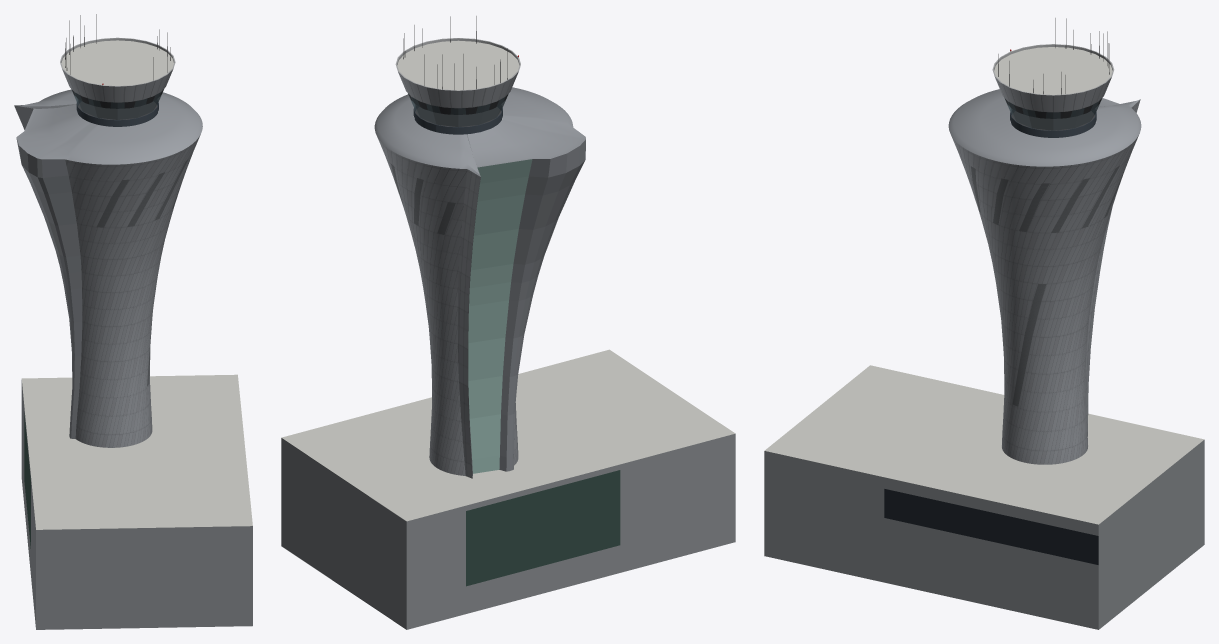
File: tower_lod2.glb
3 renders of one model, left to right at view 1: azimuth 30°, elevation 25°; view 2: azimuth 150°, elevation 25°; view 3: azimuth 270°, elevation 25°, orthographic. The views are drawn at different scales.
Visible parts, largest first — view 1: L2_ibf, L2_shaft, L2_flare_deck, L2_cab, L2_landside, L2_cab_glass, L2_roof_masts; view 2: L2_ibf, L2_shaft, L2_ribbon, L2_landside, L2_flare_deck, L2_cab, L2_cab_glass; view 3: L2_ibf, L2_shaft, L2_cab, L2_flare_deck, L2_cab_glass, L2_landside.
Part boxes in pixels (bbox=[...]): L2_ibf: bbox=[21, 374, 252, 629]; L2_shaft: bbox=[65, 134, 200, 447]; L2_flare_deck: bbox=[14, 89, 202, 164]; L2_cab: bbox=[60, 37, 175, 126]; L2_landside: bbox=[14, 105, 82, 438]; L2_cab_glass: bbox=[71, 89, 163, 119]; L2_roof_masts: bbox=[65, 14, 170, 85]; L2_ibf: bbox=[281, 349, 735, 629]; L2_shaft: bbox=[377, 137, 518, 475]; L2_ribbon: bbox=[468, 159, 532, 473]; L2_landside: bbox=[458, 139, 585, 478]; L2_flare_deck: bbox=[374, 87, 585, 176]; L2_cab: bbox=[395, 38, 520, 134]; L2_cab_glass: bbox=[408, 93, 508, 126]; L2_ibf: bbox=[764, 365, 1204, 629]; L2_shaft: bbox=[951, 133, 1139, 464]; L2_cab: bbox=[992, 44, 1114, 137]; L2_flare_deck: bbox=[948, 89, 1141, 166]; L2_cab_glass: bbox=[1004, 98, 1102, 130]; L2_landside: bbox=[1085, 99, 1140, 436].
Size of the model in its own units: 44.9 by 68.48 by 52.4.
Materials: 18 (2 with a texture image).
